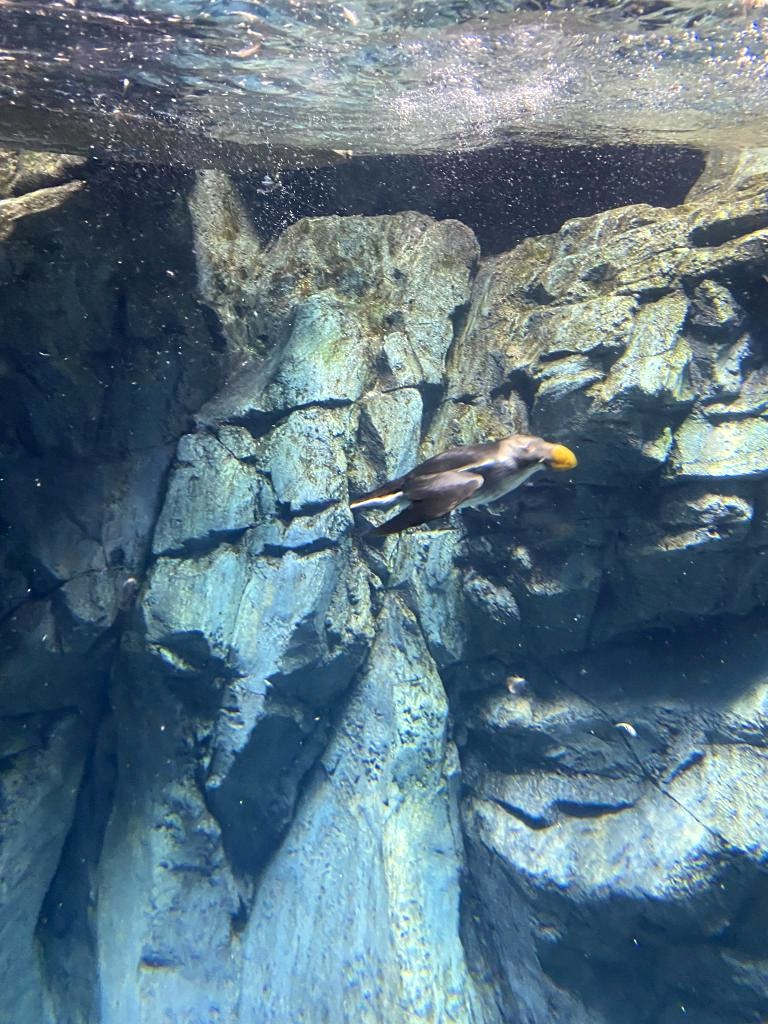puffin: (344, 430, 578, 532)
